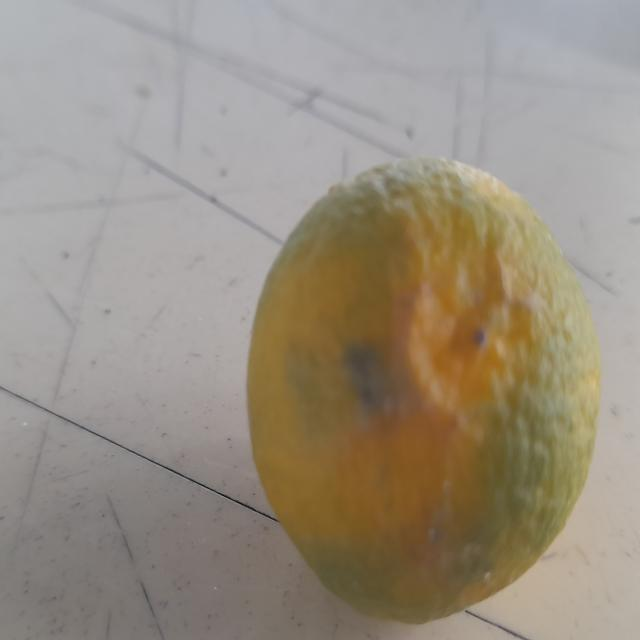greening: (246, 154, 598, 621)
